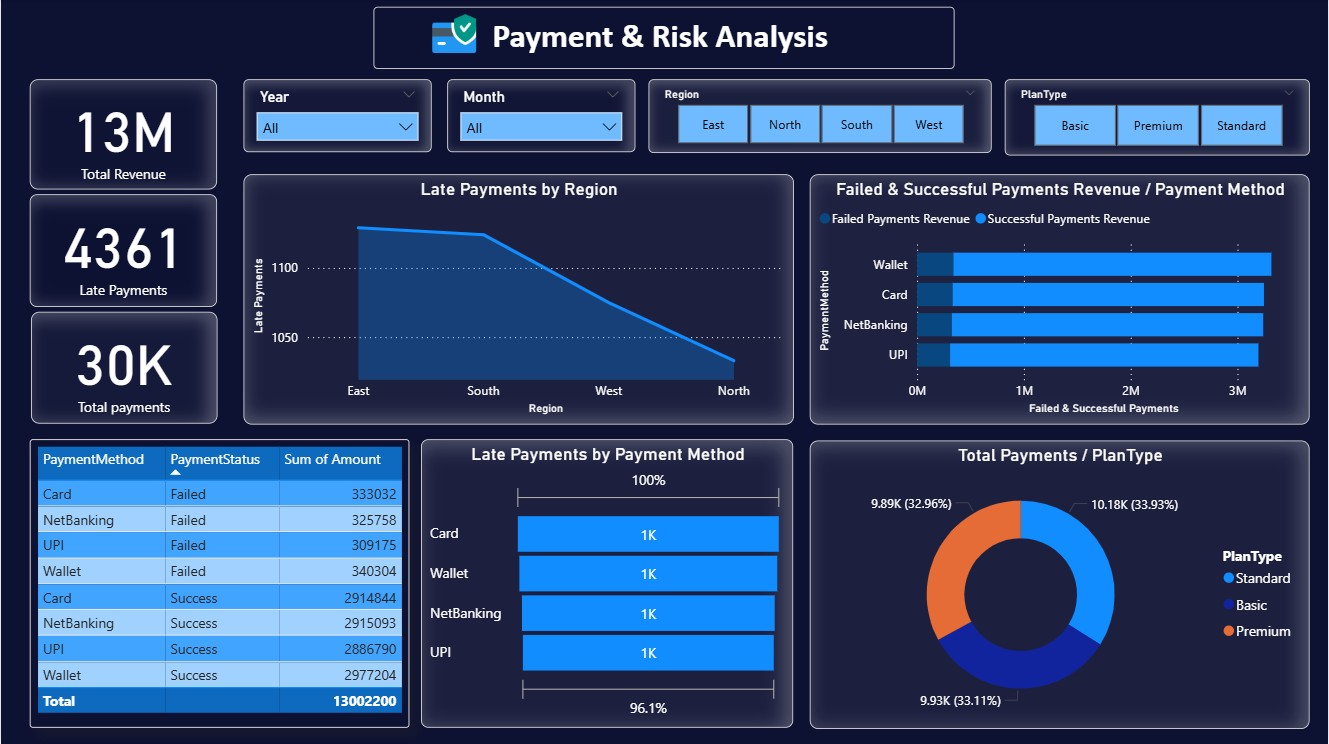

What the dashboard file says about the page in this screenshot:
{"tool":"powerbi","page":{"name":"Payment","canvas":[1280,720],"ordinal":2},"visuals":[{"type":"tableEx","fields":{"Values":["payments.PaymentMethod","payments.PaymentStatus","Sum(payments.Amount)"]},"box":[27.7,425.9,366.8,278.7],"z":0},{"type":"textbox","box":[359.5,8.4,561,60.3],"z":1000},{"type":"areaChart","fields":{"Category":["customers.Region"],"Y":["payments.Late Payments"]},"box":[234,170.1,530.8,241.3],"z":2000},{"type":"card","fields":{"Values":["payments.Late Payments"]},"box":[27.6,189.4,181.2,108.8],"z":3000},{"type":"card","fields":{"Values":["payments.Total payments"]},"box":[28.8,302.9,180,108.2],"z":4000},{"type":"card","fields":{"Values":["payments.Total Revenue"]},"box":[27.6,78.2,181.2,106.5],"z":5000},{"type":"slicer","fields":{"Values":["DateTable.Year"]},"box":[234.5,79,181.9,70.2],"z":6000},{"type":"slicer","fields":{"Values":["DateTable.Month"]},"box":[430.2,79,181.9,70.2],"z":7000},{"type":"slicer","fields":{"Values":["customers.Region"]},"box":[624.6,79,331.1,71.5],"z":8000},{"type":"slicer","fields":{"Values":["plans.PlanType"]},"box":[968.2,79,294.7,74],"z":9000},{"type":"funnel","title":"Late Payments by Payment Method","fields":{"Y":["payments.Late Payments"],"Category":["payments.PaymentMethod"]},"box":[405.4,425.9,359.5,278.7],"z":10000},{"type":"barChart","title":"Failed & Successful Payments Revenue / Payment Method","fields":{"Category":["payments.PaymentMethod"],"Y":["payments.Failed Payments Revenue","payments.Successful Payments Revenue"]},"box":[780.6,170.1,482.6,241.3],"z":11000},{"type":"donutChart","title":"Total Payments / PlanType","fields":{"Category":["plans.PlanType"],"Y":["CountNonNull(payments.PaymentID)"]},"box":[780.6,427.1,482.6,278.7],"z":12000},{"type":"image","box":[411.2,8.8,51.9,51.9],"z":12001}]}

Visuals, with their boxes in screenshot pixels (x1, y1, x2, y2), scaled from the page's 1280x720 canvas onto the 1329x744 screenshot:
tableEx - payments.PaymentMethod x payments.PaymentStatus: select_region(29, 440, 410, 728)
textbox: select_region(373, 9, 956, 71)
areaChart - customers.Region x payments.Late Payments: select_region(243, 176, 794, 425)
card - payments.Late Payments: select_region(29, 196, 217, 308)
card - payments.Total payments: select_region(30, 313, 217, 425)
card - payments.Total Revenue: select_region(29, 81, 217, 191)
slicer - DateTable.Year: select_region(243, 82, 432, 154)
slicer - DateTable.Month: select_region(447, 82, 636, 154)
slicer - customers.Region: select_region(649, 82, 992, 156)
slicer - plans.PlanType: select_region(1005, 82, 1311, 158)
"Late Payments by Payment Method" funnel: select_region(421, 440, 794, 728)
"Failed & Successful Payments Revenue / Payment Method" barChart: select_region(810, 176, 1312, 425)
"Total Payments / PlanType" donutChart: select_region(810, 441, 1312, 729)
image: select_region(427, 9, 481, 63)
